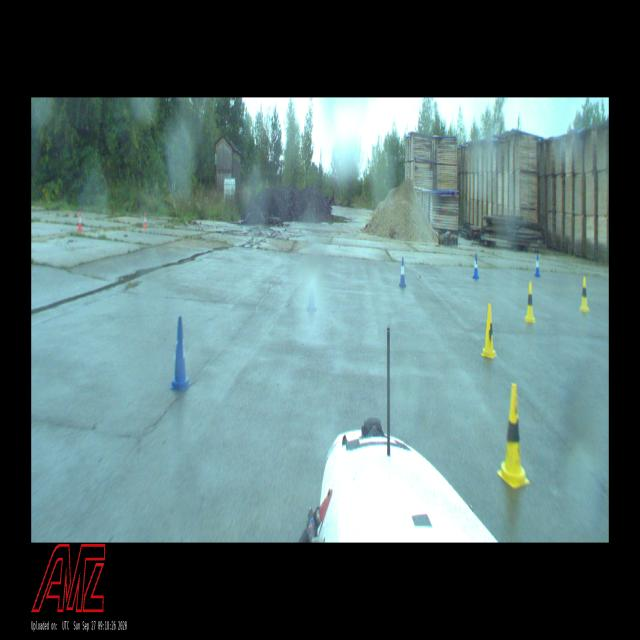blue_cone: (170, 317, 192, 390), (399, 258, 406, 288), (473, 253, 479, 278), (534, 253, 540, 277)
orange_cone: (78, 212, 82, 232), (144, 212, 148, 228)
yellow_cone: (497, 383, 531, 489), (481, 303, 497, 359), (525, 282, 536, 323), (579, 277, 590, 312)
